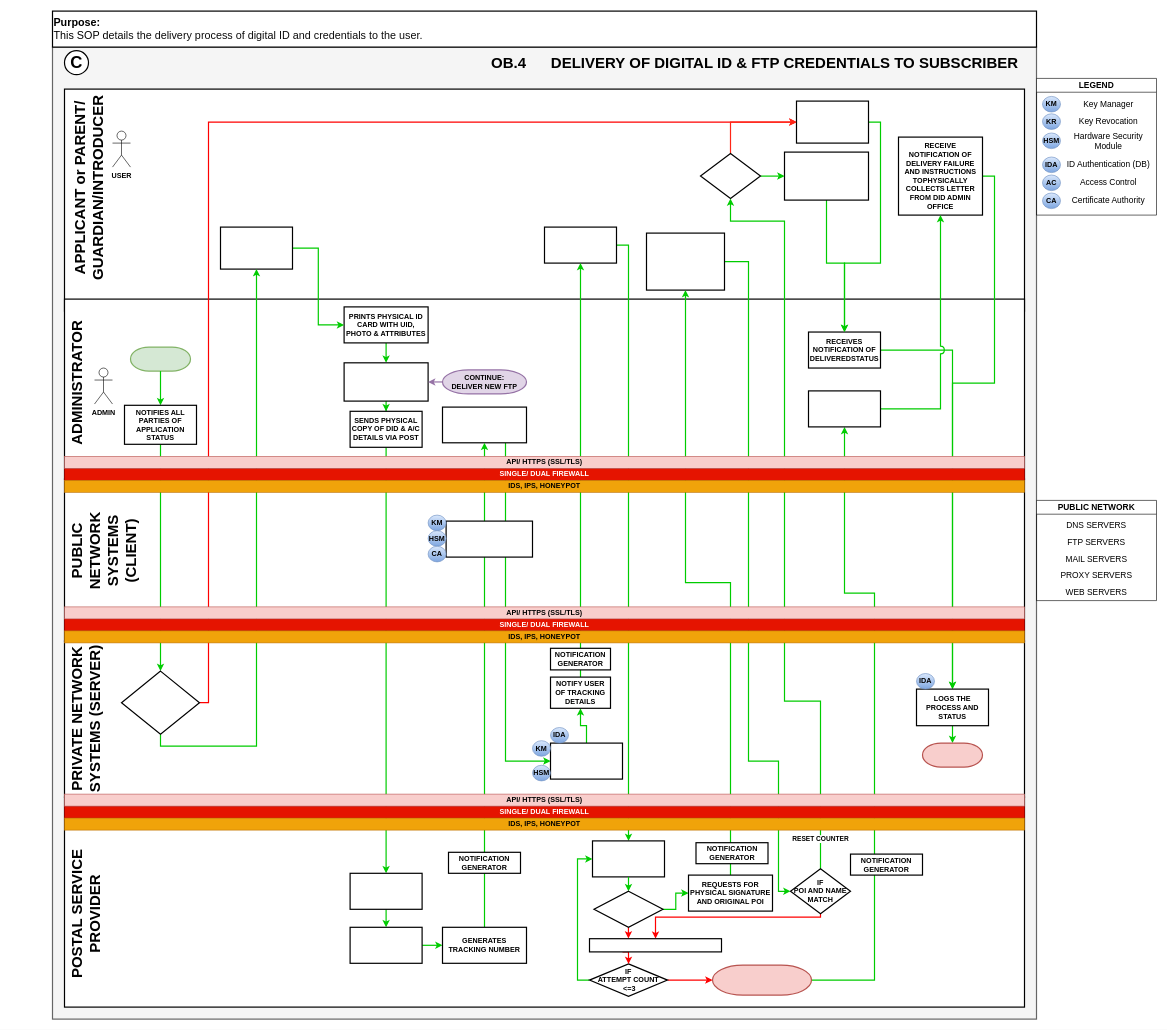
Some shapes in this 1167 by 1030 pixel diagram are drawn without their labels. The centre of each missing label's shape, as x and y in pixels:
ATTEMPTS DELIVERY AT APPLICANTS GIVEN ADDRESS: point 628,858
END: point 952,754
EXCEPTION AND ERROR HANDLING: point 655,945
IF APPLICATION SUCCESS: point 730,176
IF APPLICATION SUCCESS AND UIN ACCOUNT HAS FTP: point 160,702
IF SUBSCRIBER PRESENT: point 628,909
MASKING & ENCRYPT TRACKING NUMBER: point 489,538
PRINTS LETTER WITH UID & FIRST-TIME PASSWORD: point 385,381
RECEIVES DID TRACKING DETAILS ON EMAIL AND PHONE: point 580,244
RECEIVES LETTER WITH DID PHYSICAL CARD AND ACTIVATION INSTRUCTIONS: point 826,175
RECEIVES NOTIFICATION OF REJECTED APPLICATION LETTER: point 832,121
RECEIVES NOTIFICATION OF SUCCESSFUL APPLICATION ON EMAIL/PHONE: point 256,247
RECEIVES RETURNED LETTER: point 844,408
RECEIVES SEALED LETTER FROM ADMINISTRATOR: point 385,891
RECEIVES TRACKING NUMBER AND STORES: point 484,424
REGISTERS POST: point 385,945
SHOWS ORIGINAL POI FOR VERIFICATION AND SIGNS THE ACKNOWLEDGEMENT OF RECIVED: point 685,261
START (ONLINE): point 160,358
STORE TRACKING DETAILS IN UIN ACCOUNT: point 586,760
TERMINATE PROCESS: RETURN TO ADMINISTRATOR: point 762,979
